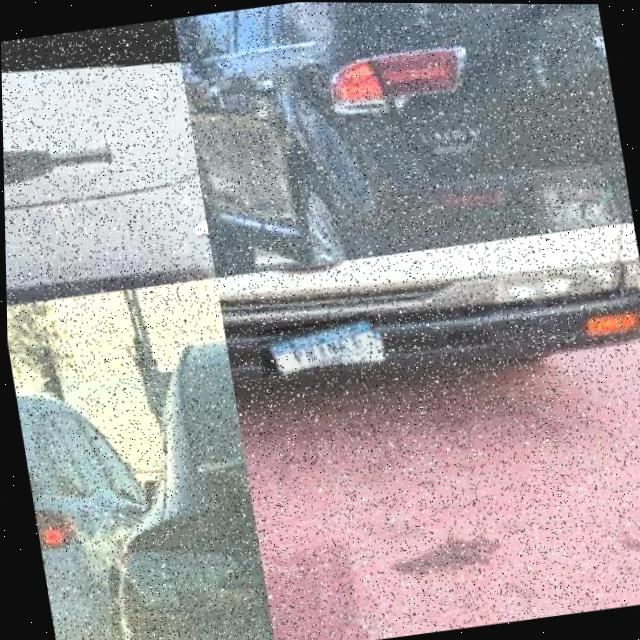LicensePlate: (257, 315, 377, 376), (533, 175, 608, 223)
